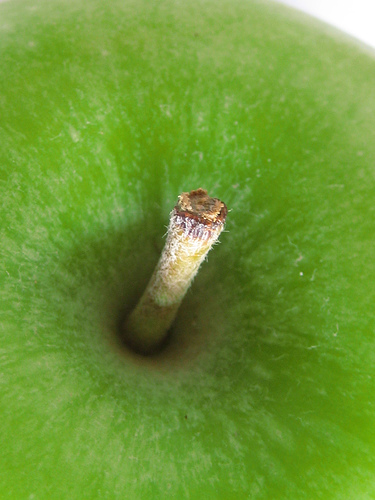apple: (0, 0, 373, 498)
